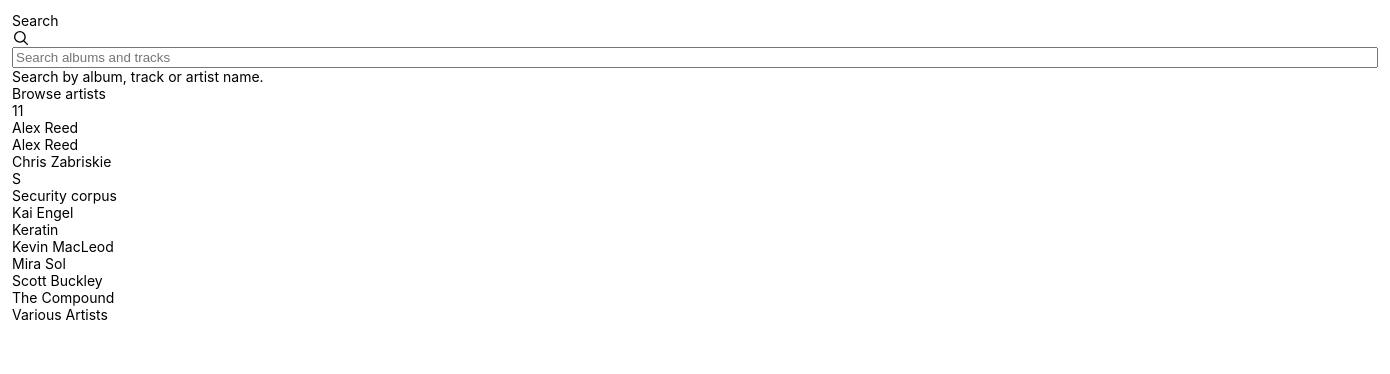
Test: a single match is counted in the singular
Type "anything" into the search field labelled "Search albums and tracks". click: x=695, y=58
box: [12,47,1378,68]
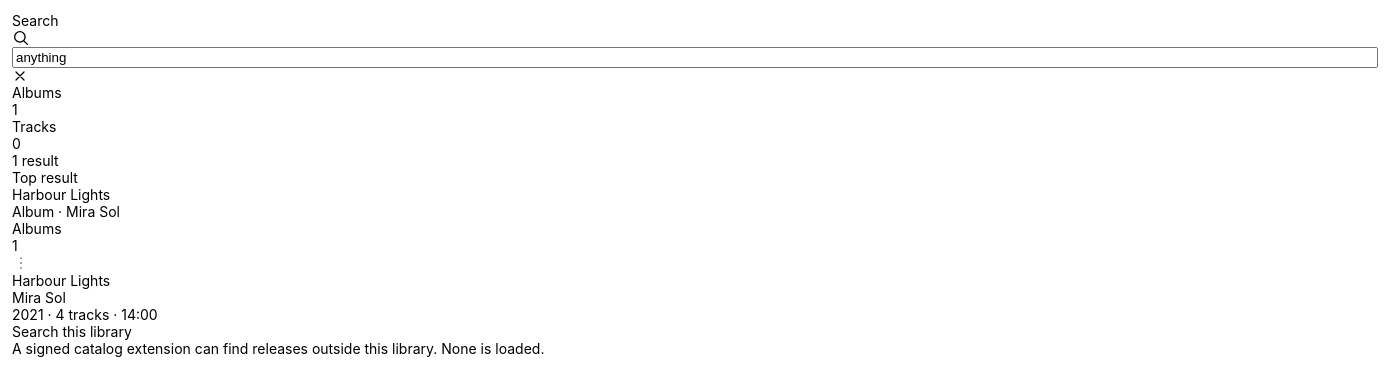
Check: the text with id "search-results-count" reads "1 result", box [12,152,59,169]
